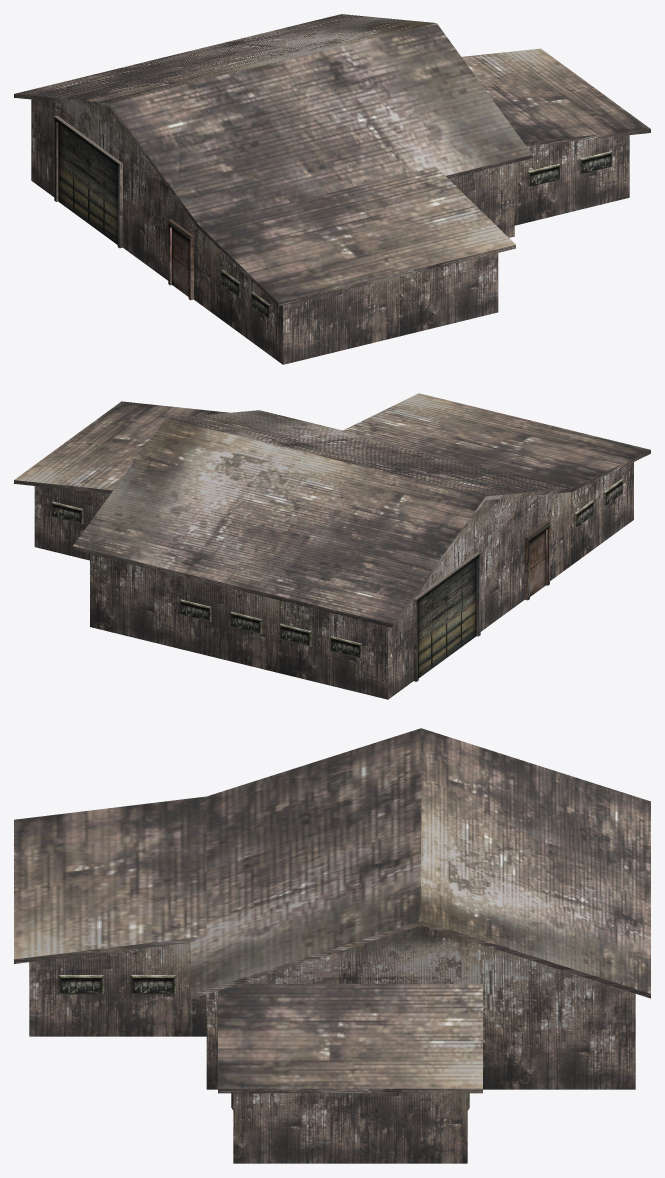
The model's file is warehs12.glb.
The picture shows the model from 3 angles, top to bottom: view 1: azimuth 30°, elevation 25°; view 2: azimuth 150°, elevation 25°; view 3: azimuth 270°, elevation 25°; orthographic projection. The views are drawn at different scales.
Parts seen in each view (by area): view 1: _warehs12; view 2: _warehs12; view 3: _warehs12.
Boxes of the visible parts, box(x1,y1,x2,y2) form: _warehs12: box(14, 14, 650, 364); _warehs12: box(14, 393, 650, 699); _warehs12: box(14, 728, 650, 1163).
Bounding box in the file's own units: 21.76 × 6.62 × 21.79.
Materials: 1 (1 with a texture image).
